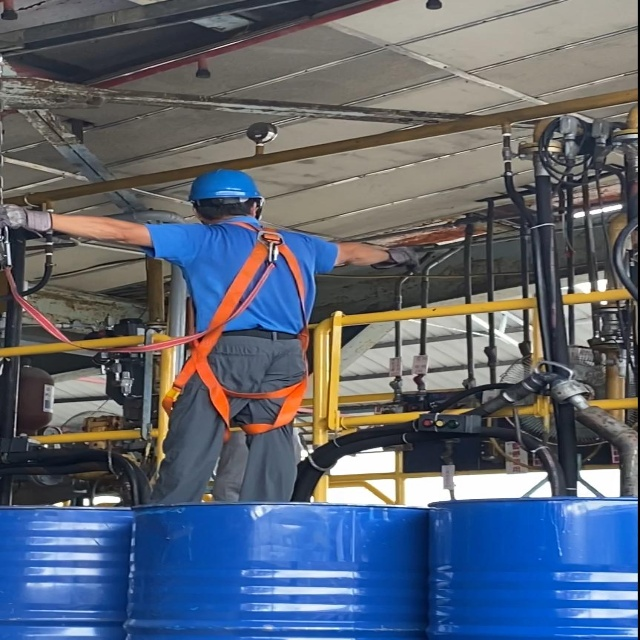Arnes_seguridad: (162, 223, 320, 440)
